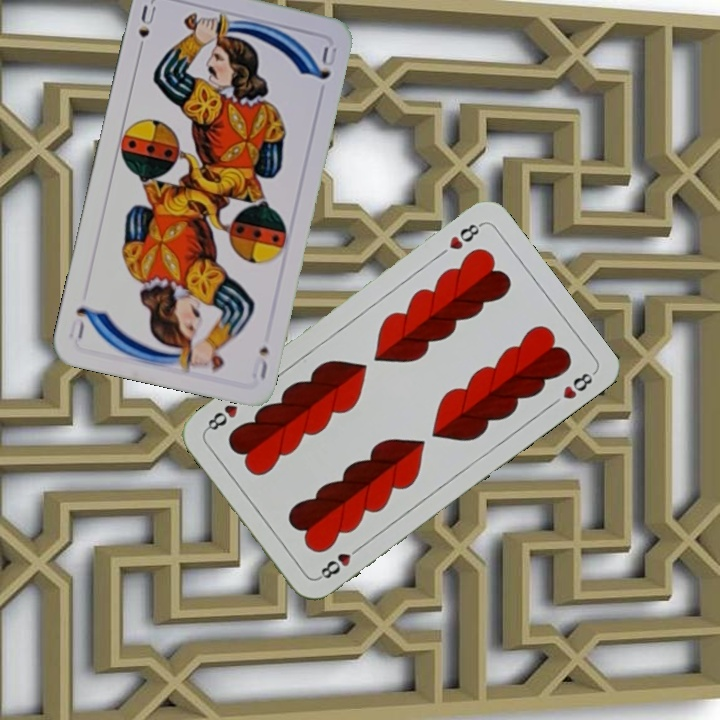H8: (314, 541, 364, 582), (445, 219, 485, 253)
SU: (133, 1, 159, 58), (248, 342, 271, 383)
